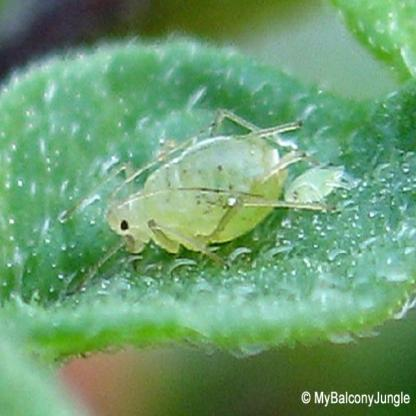aphid: (66, 113, 302, 294), (280, 148, 356, 216)
